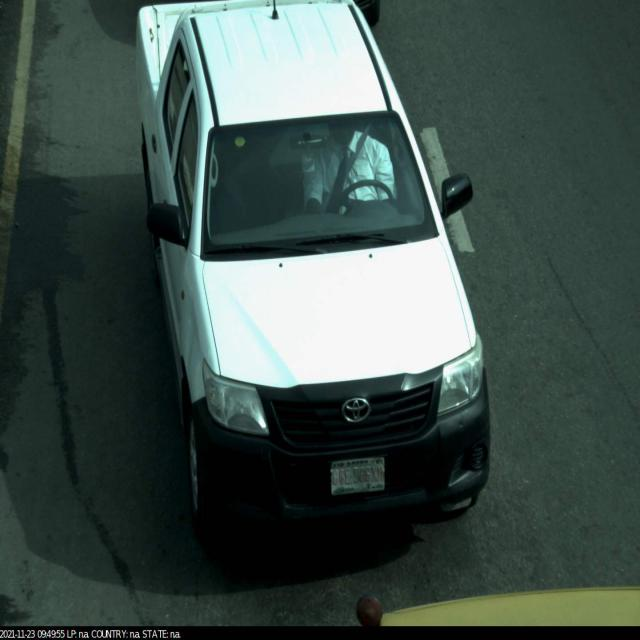windshield: (194, 103, 443, 273)
